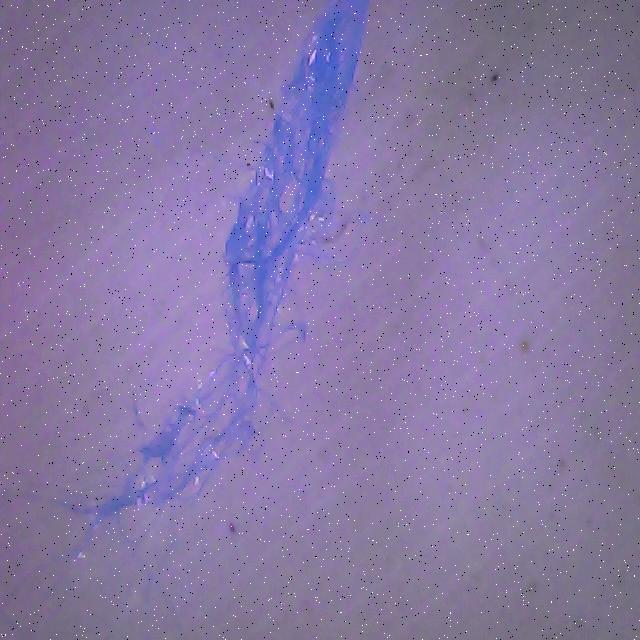fibers: (91, 0, 376, 567)
